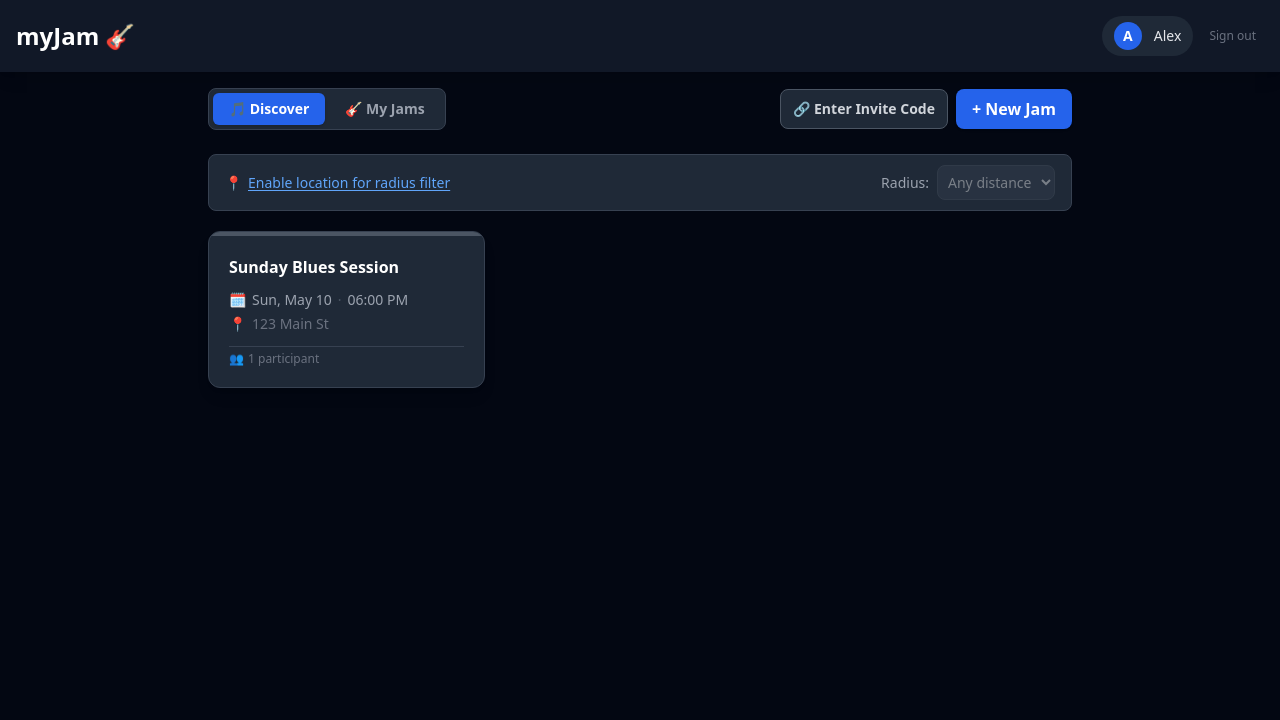
Scenario: App interactions › reconciles the jam after join succeeds but hardware registration fails
This screenshot has width=1280, height=720.
Click the heading "Sunday Blues Session" at (314, 267), box [229, 256, 399, 278]
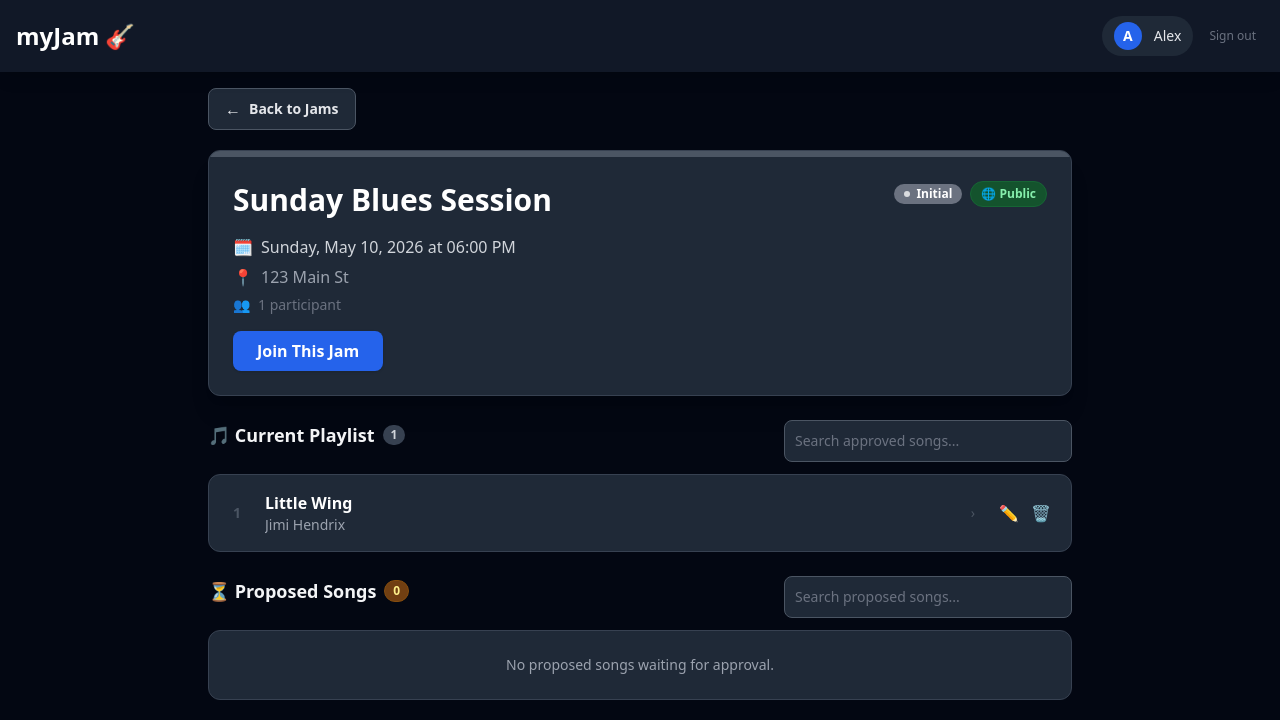
Click the button "Join This Jam" at (308, 350), box [233, 330, 383, 370]
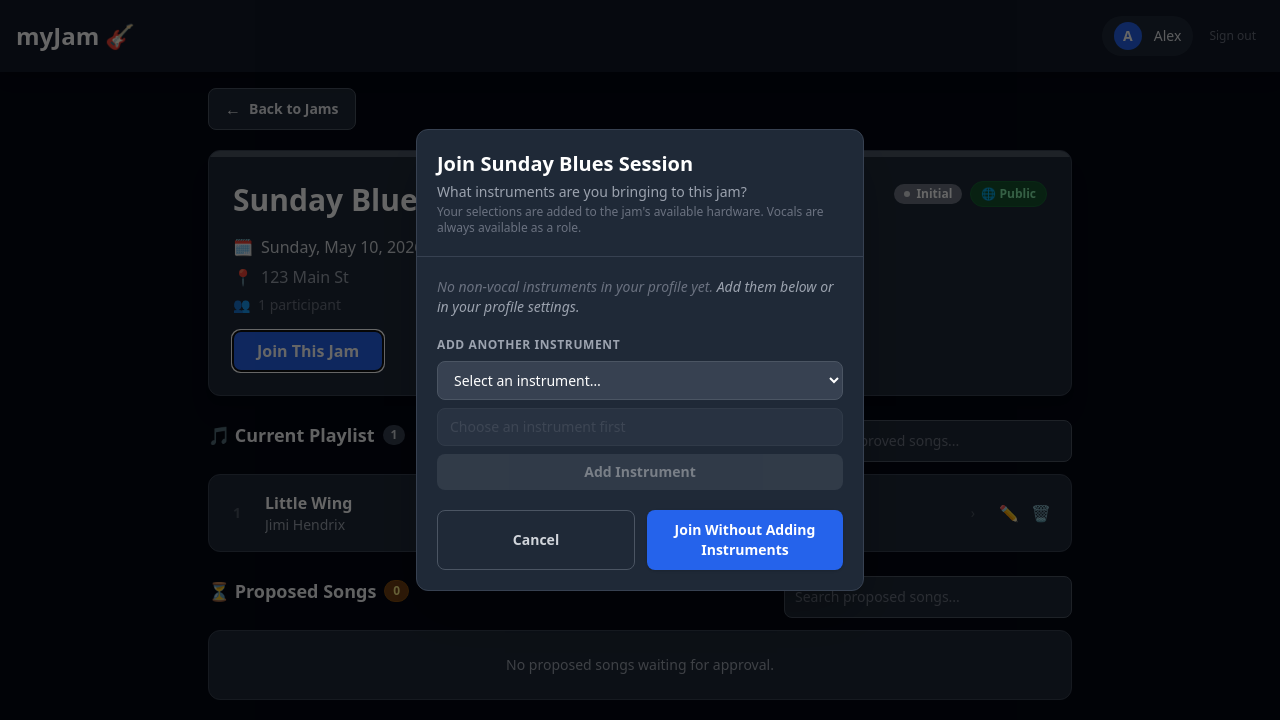
Select "Electric Guitar" in the dropdown named "additional hardware instrument" at (640, 380), box [437, 361, 843, 400]
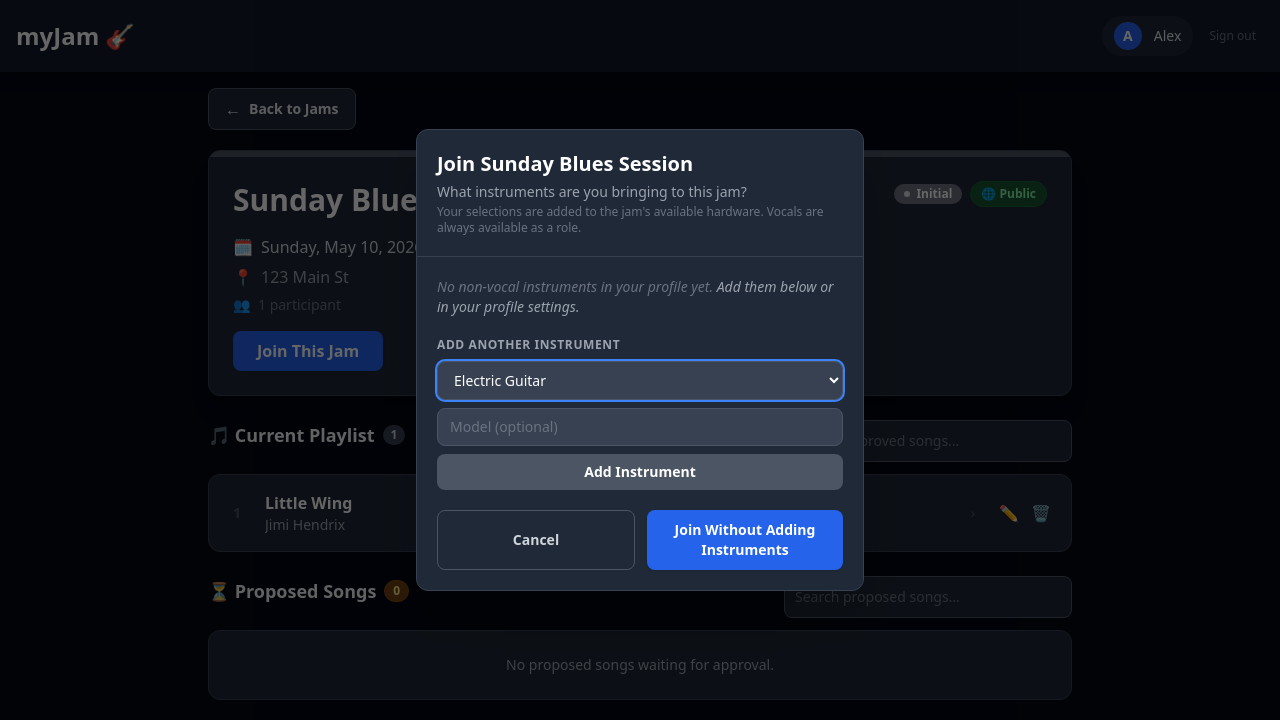
Click the button "Add Instrument" at (640, 472), box [437, 454, 843, 490]
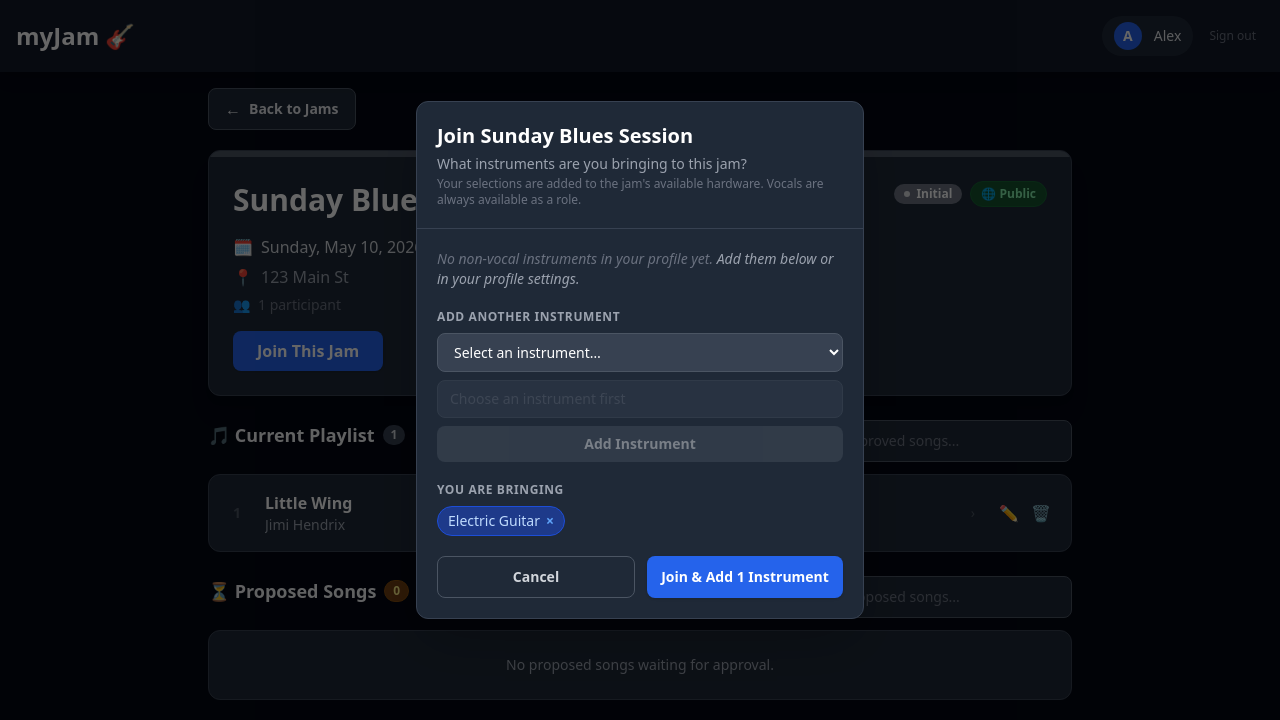
Click the button "Join & Add 1 Instrument" at (745, 577), box [647, 556, 843, 598]
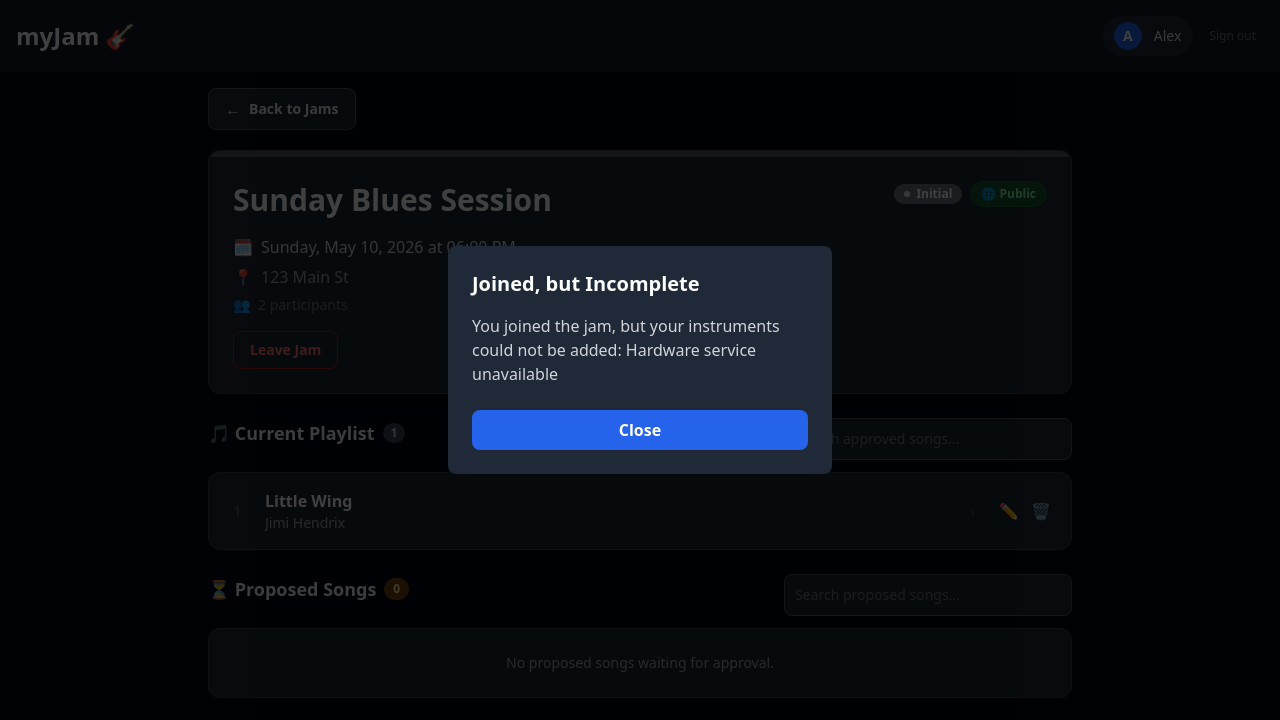
Expected: the heading "Joined, but Incomplete" is shown, [472, 270, 700, 297]
